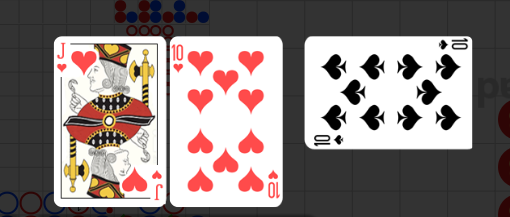10H: (266, 168, 280, 199)
10S: (436, 39, 469, 53)
JH: (55, 42, 68, 74)
